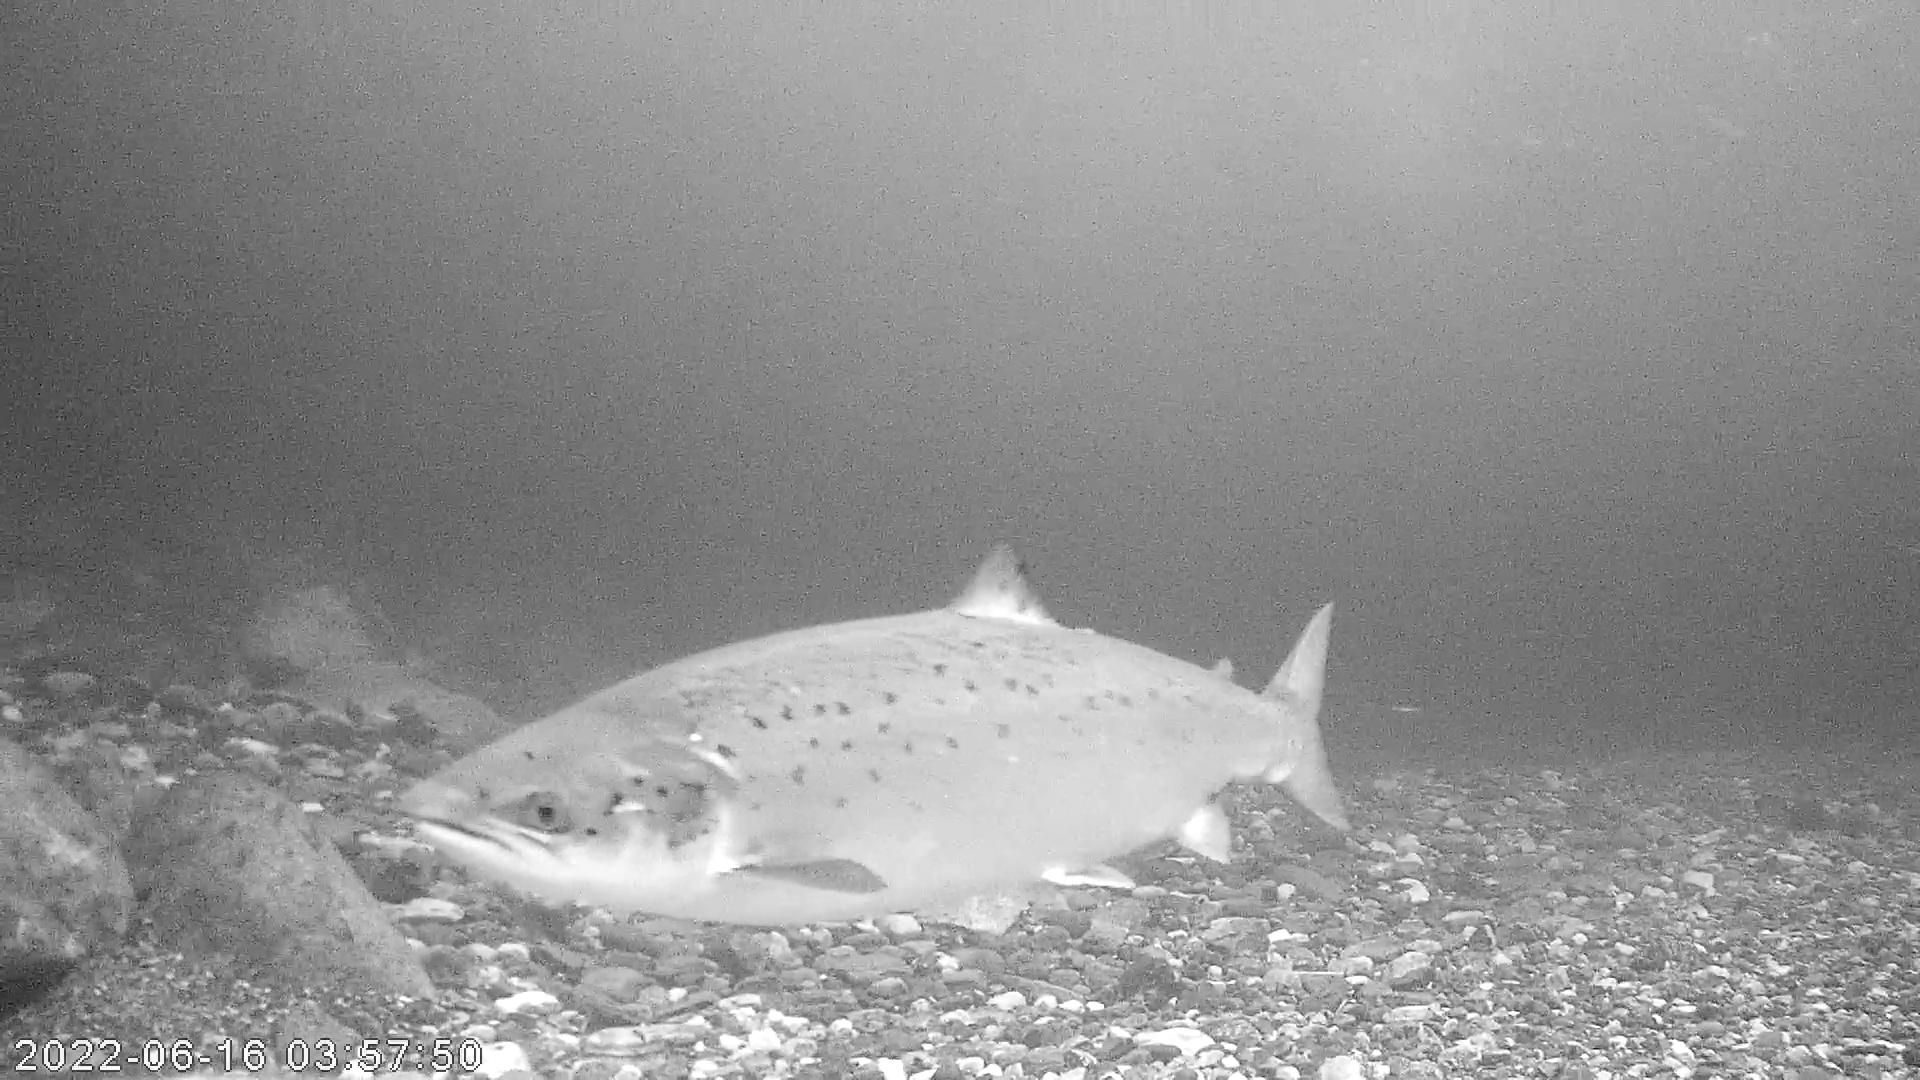salmon: (393, 539, 1356, 934)
